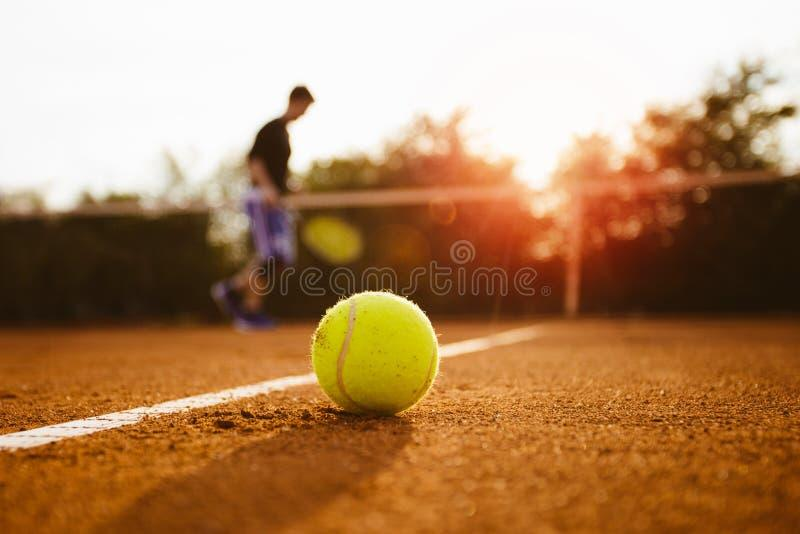ball_tennis: (312, 287, 442, 421)
